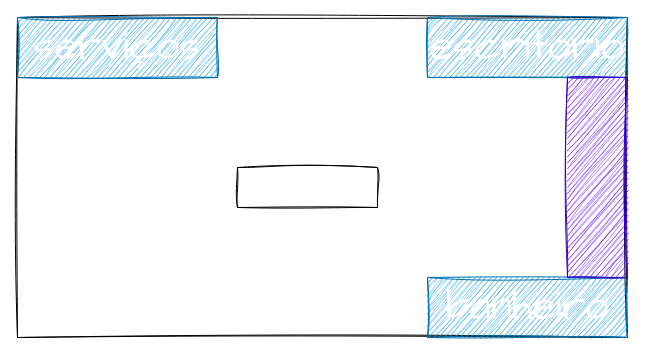
This 645x355 diagram has some shape labels left out. The box of each missing label's shape, as (x1, y1, x2, y2) in pixels:
closet: (566, 76, 628, 278)
QuartoGde: (236, 166, 378, 208)
